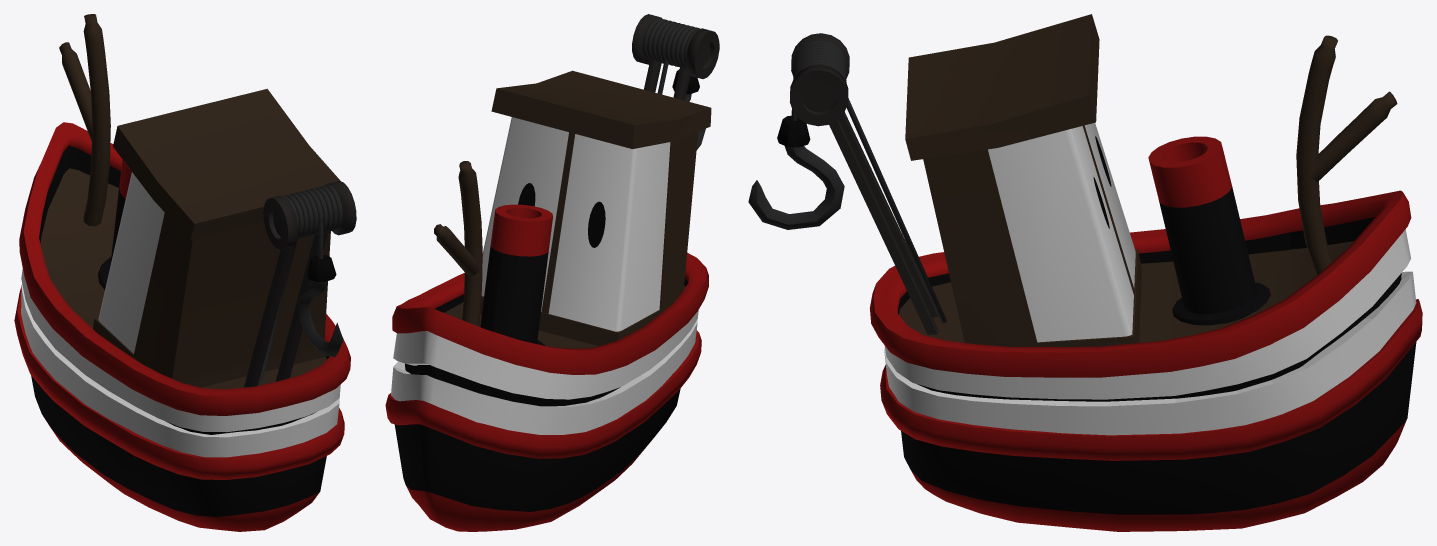
The model's file is PuffyAnimation.fbx.
The picture shows the model from 3 angles, left to right: view 1: azimuth 30°, elevation 25°; view 2: azimuth 150°, elevation 25°; view 3: azimuth 270°, elevation 25°; orthographic projection. The views are drawn at different scales.
Visible parts, largest first — view 1: Puffer; view 2: Puffer; view 3: Puffer.
Boxes of the visible parts, <box> form: Puffer: <box>14,14,356,531</box>; Puffer: <box>385,14,719,531</box>; Puffer: <box>748,14,1422,531</box>.
Size of the model in its own units: 22.8 by 41.23 by 52.67.
